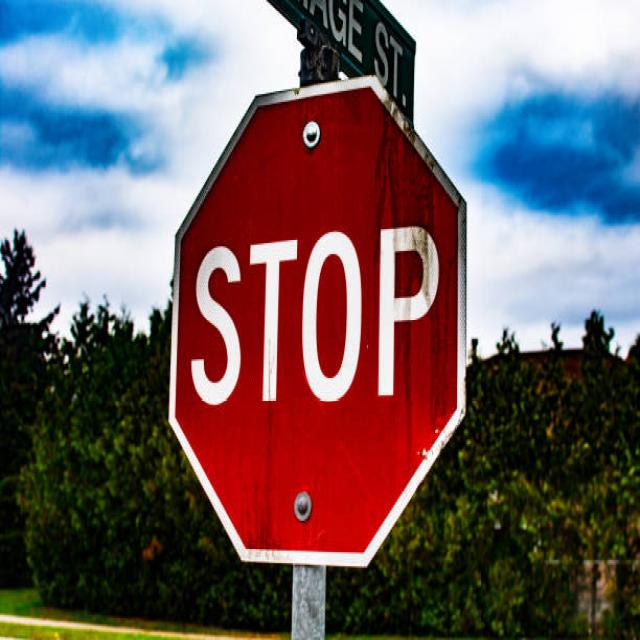stop: (162, 78, 490, 584)
